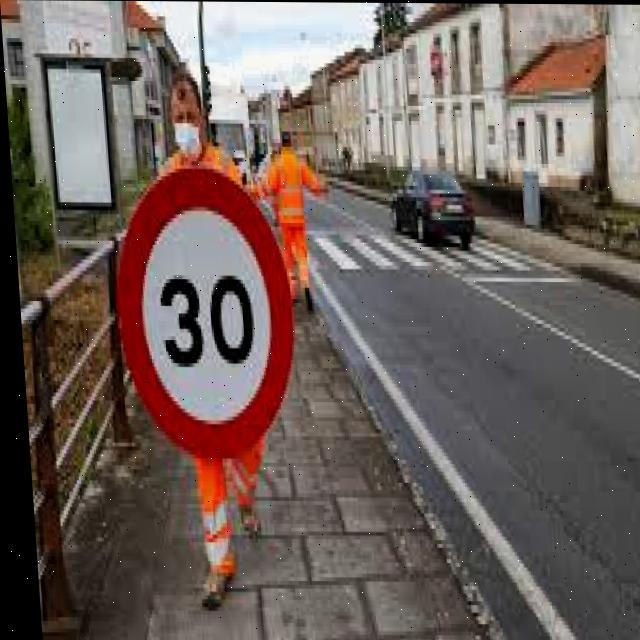Speed limit 30: (103, 162, 298, 464)
